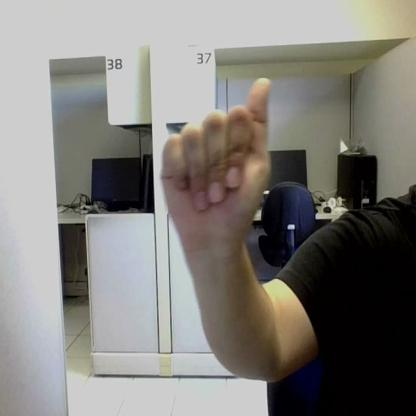A: (160, 78, 271, 242)
